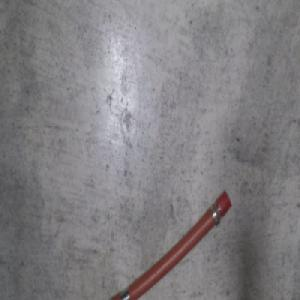Hose: (97, 187, 231, 300)
